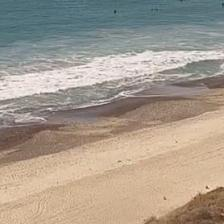surfer: (151, 8, 158, 11), (113, 10, 116, 14), (180, 0, 183, 2), (222, 3, 223, 6)
